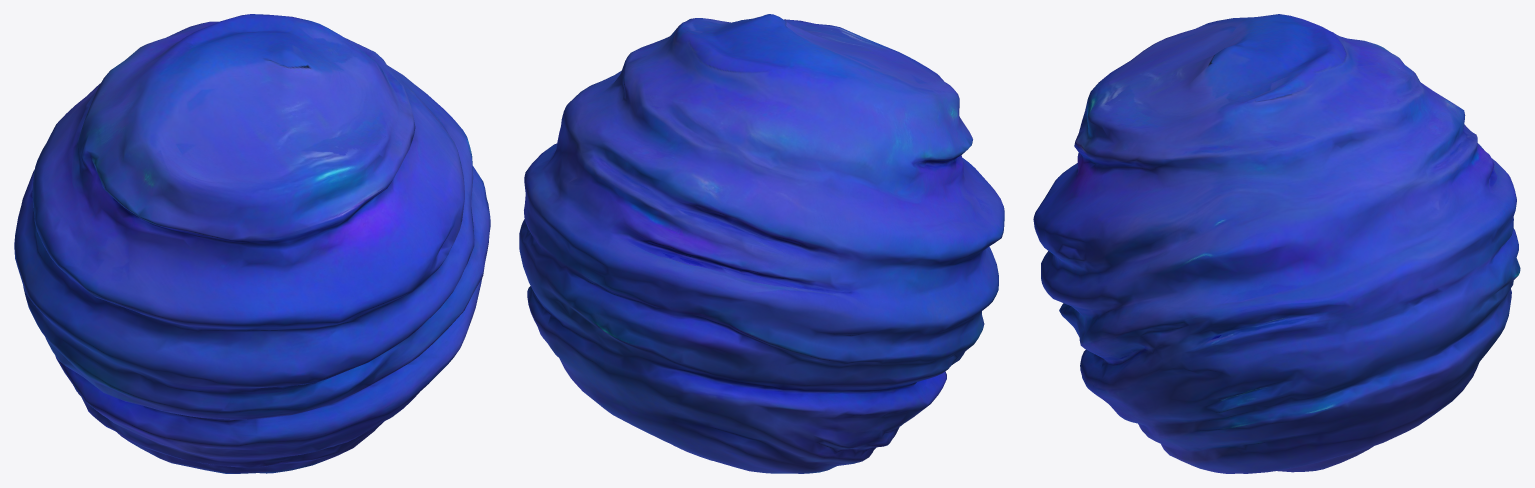
Rendered from Sapphire_Swirl_Sphere_0412032836_texture.glb.
The picture shows the model from 3 angles, left to right: view 1: azimuth 30°, elevation 25°; view 2: azimuth 150°, elevation 25°; view 3: azimuth 270°, elevation 25°; orthographic projection.
Bounding box in the file's own units: 2 × 1.88 × 2.
1 material, 1 textured.
